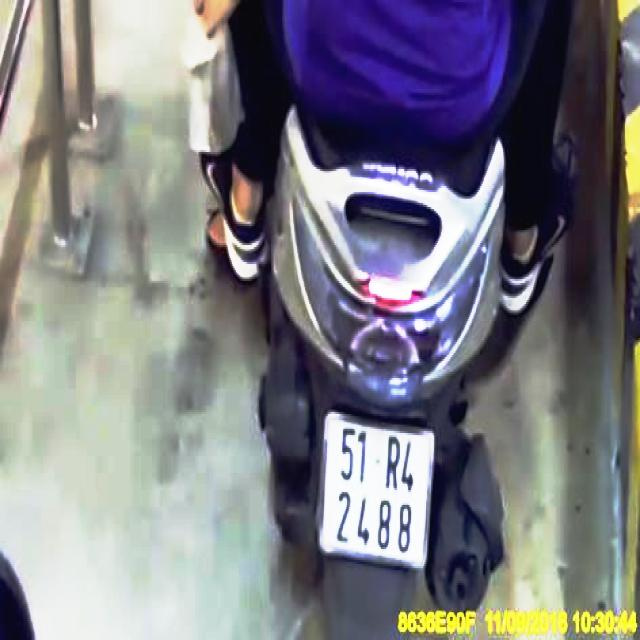license_plate: (321, 416, 432, 575)
